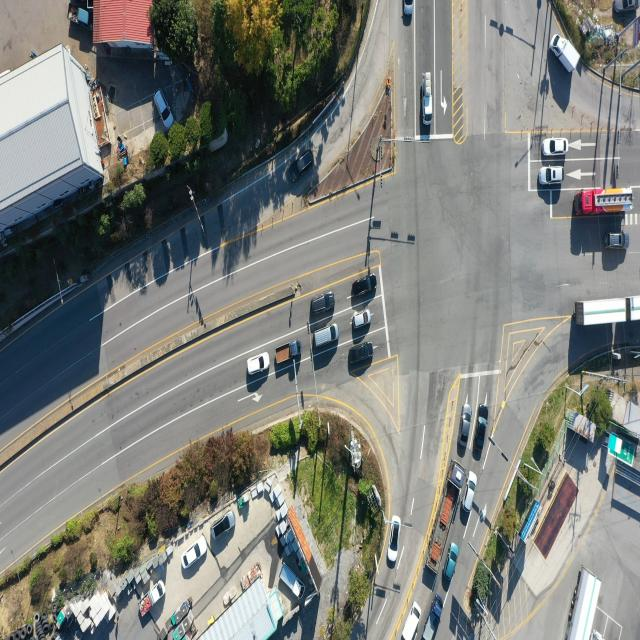car: (288, 150, 316, 185), (399, 602, 424, 640), (184, 538, 208, 570), (156, 90, 174, 130), (474, 409, 488, 460), (212, 510, 235, 539), (462, 472, 477, 514), (388, 514, 401, 562), (312, 324, 338, 348), (348, 342, 374, 366), (352, 274, 377, 298), (247, 351, 270, 375), (459, 402, 471, 448), (309, 292, 334, 314), (445, 543, 459, 580), (543, 138, 569, 157), (538, 167, 564, 186), (606, 233, 628, 250), (352, 311, 372, 329), (615, 0, 638, 14), (403, 1, 414, 17)
medium_truck: (422, 458, 464, 572), (565, 570, 601, 640), (574, 296, 640, 327), (576, 191, 634, 216)
small_truck: (550, 34, 580, 76), (280, 559, 304, 604), (140, 581, 167, 618), (425, 593, 445, 640), (274, 340, 301, 365), (422, 69, 434, 125), (68, 5, 92, 28)
